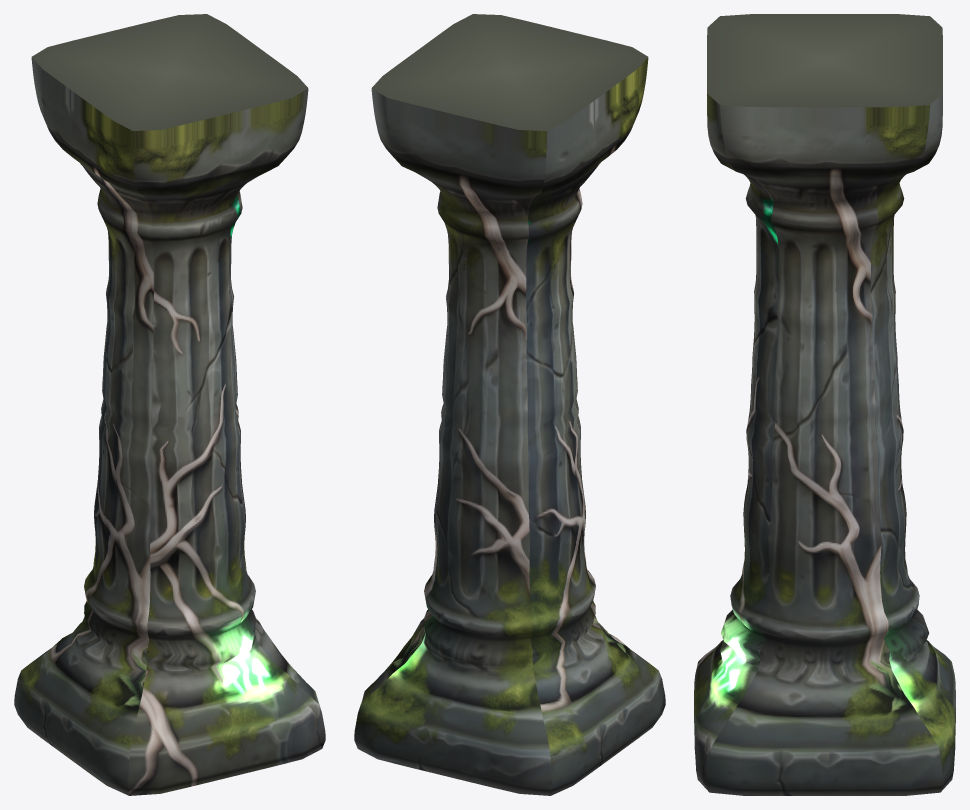
Rendered from column.glb.
The picture shows the model from 3 angles, left to right: view 1: azimuth 30°, elevation 25°; view 2: azimuth 150°, elevation 25°; view 3: azimuth 270°, elevation 25°; orthographic projection. The views are drawn at different scales.
Parts seen in each view (by area): view 1: column; view 2: column; view 3: column.
Part boxes in pixels (x1,y1,x2,y2): column: (14,14,325,795); column: (354,14,665,795); column: (694,14,955,795).
Bounding box in the file's own units: 0.6797 × 2 × 0.6852.
1 material, 1 textured.
